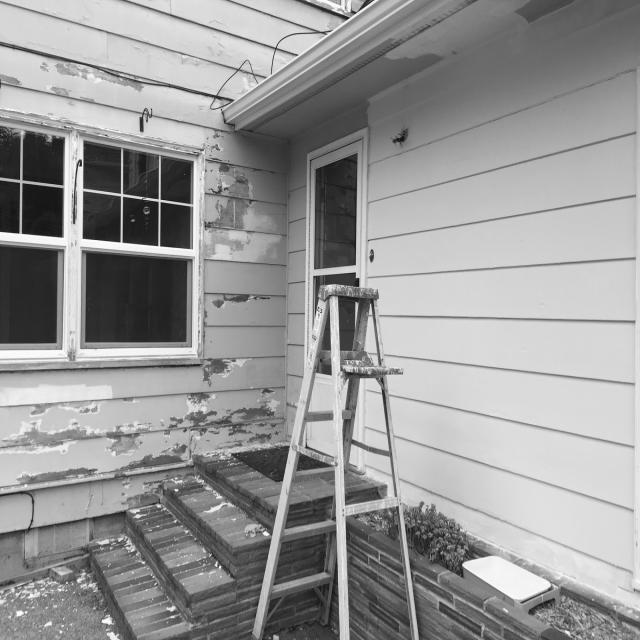peeling paint: (0, 35, 286, 523), (371, 0, 541, 101)
